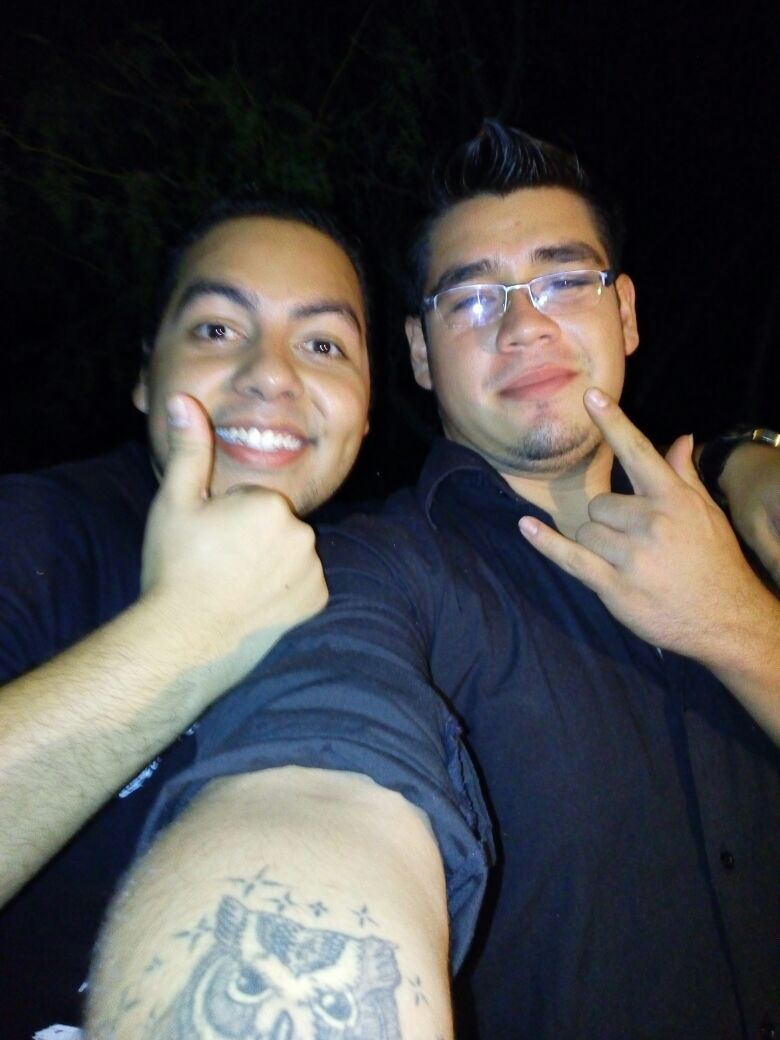Lobo: (93, 163, 404, 501)
